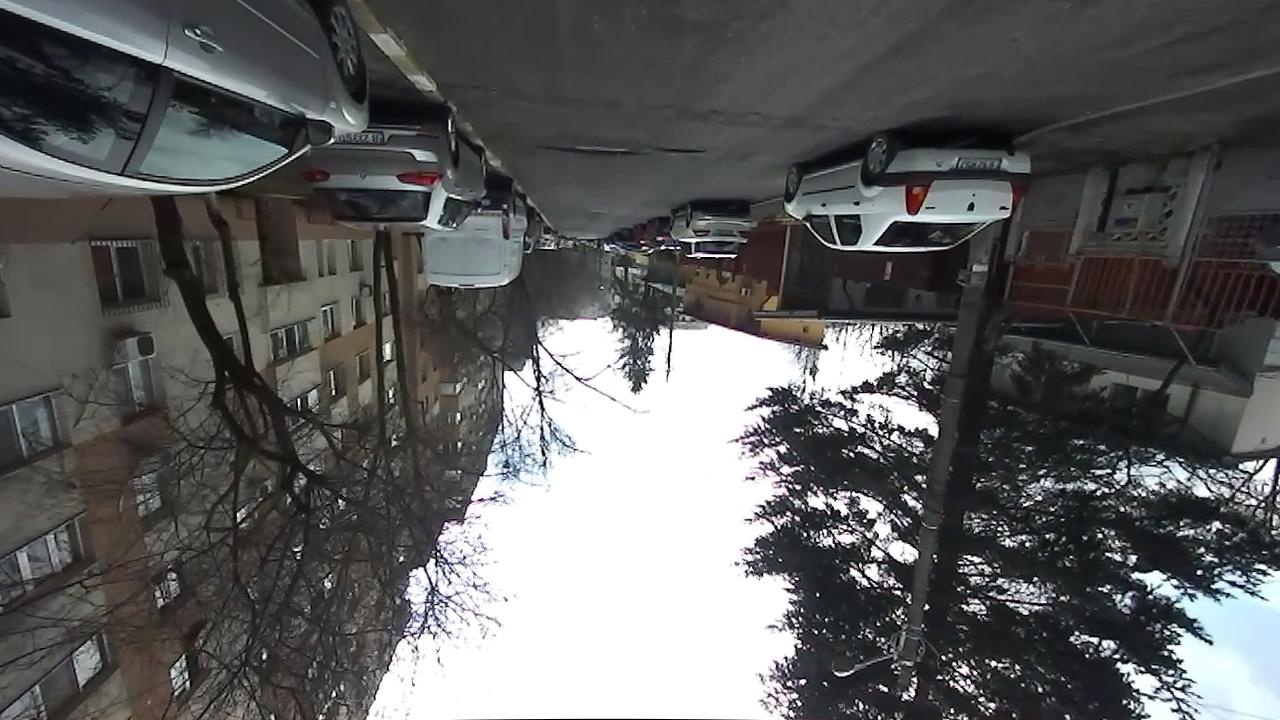pothole: (541, 138, 640, 157), (658, 146, 706, 156)
